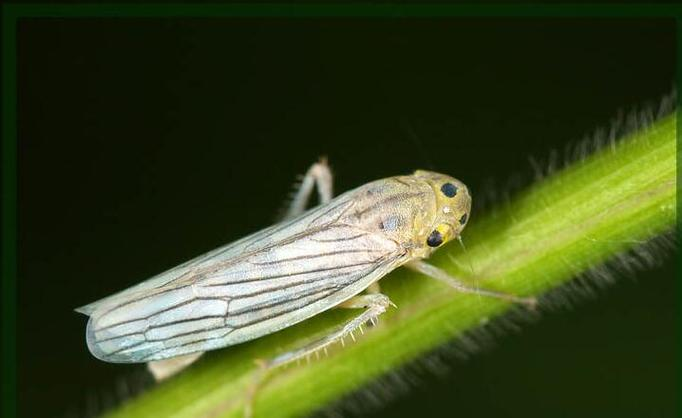Cicadellidae: (76, 155, 472, 364)
